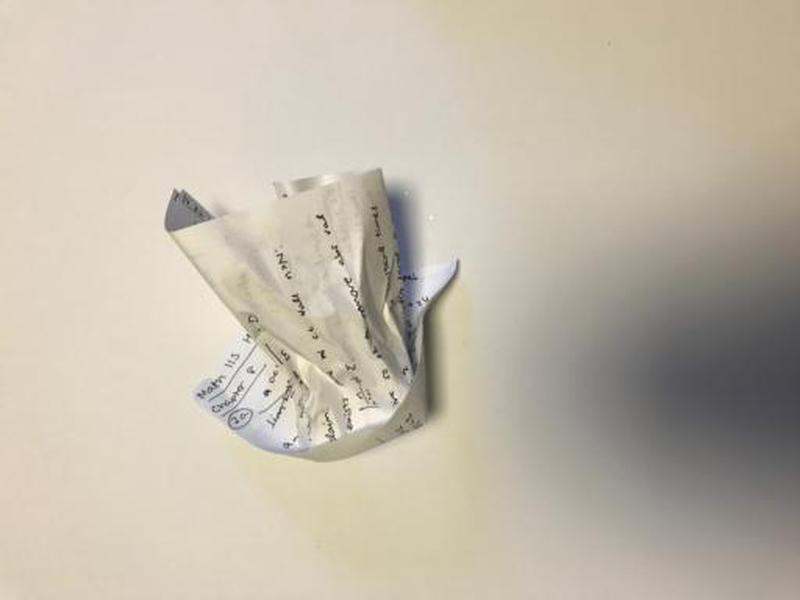paper: (157, 164, 466, 465)
